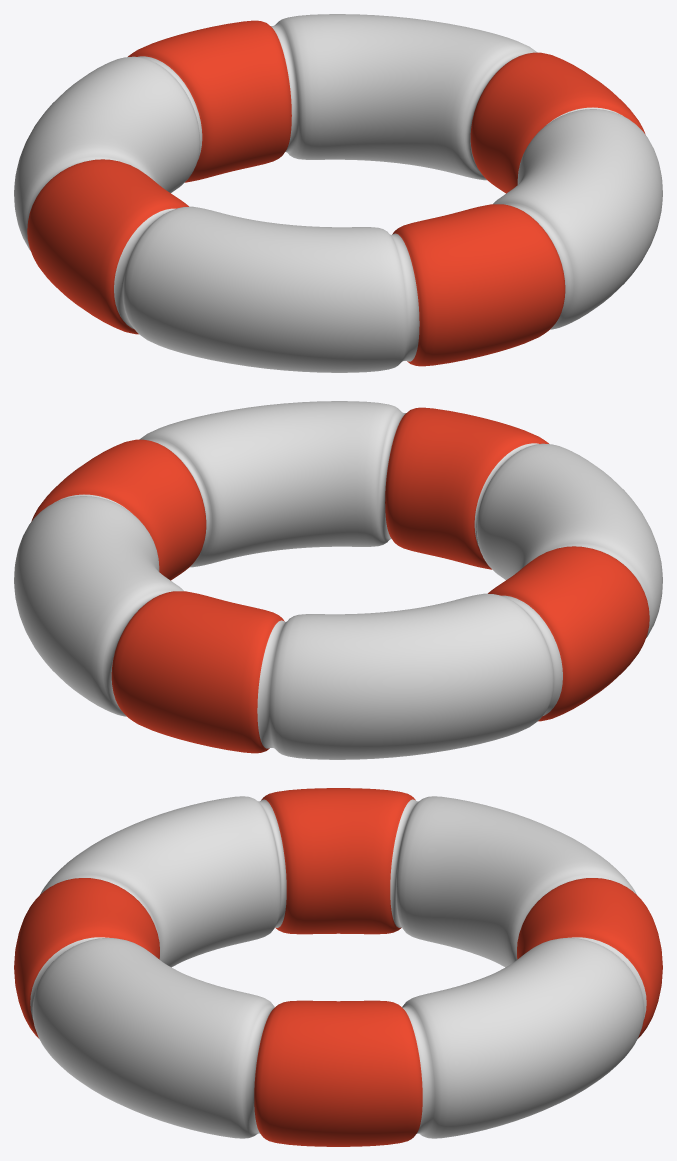
Rendered from swim.fbx.
3 renders of one model, top to bottom at view 1: azimuth 30°, elevation 25°; view 2: azimuth 150°, elevation 25°; view 3: azimuth 270°, elevation 25°, orthographic.
Visible parts, largest first — view 1: 环体.004; view 2: 环体.004; view 3: 环体.004.
Boxes of the visible parts, left/top/right/bottom form: 环体.004: left=14, top=14, right=662, bottom=372; 环体.004: left=14, top=401, right=662, bottom=759; 环体.004: left=14, top=788, right=662, bottom=1146.
Bounding box in the file's own units: 254 × 57.32 × 254.
